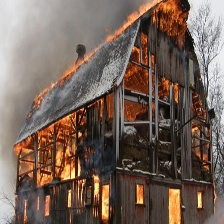fire: (14, 1, 215, 224)
